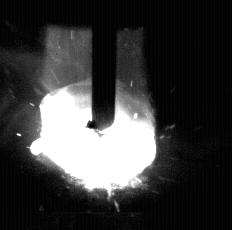arame: (87, 0, 117, 138)
poca: (28, 0, 158, 230)
